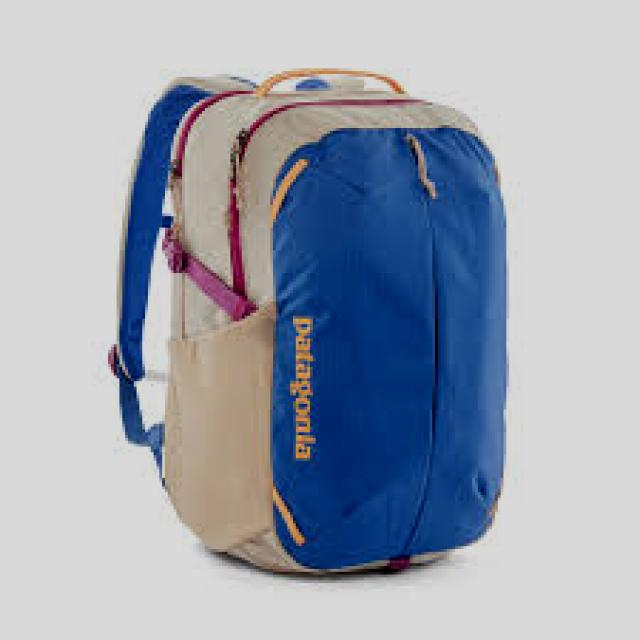backpack: (109, 67, 510, 576)
